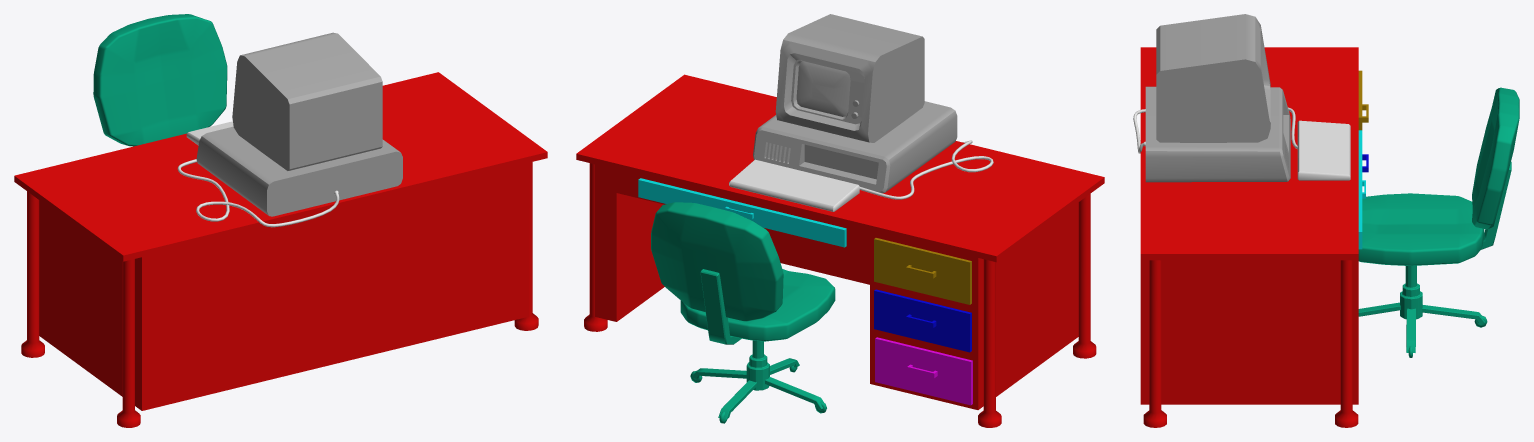
File: FULL_ComputerSetup.fbx
3 views of the same model, side by side, from view 1: azimuth 30°, elevation 25°; view 2: azimuth 150°, elevation 25°; view 3: azimuth 270°, elevation 25° (orthographic).
Parts seen in each view (by area): view 1: ComputerDesk, Computer, DeskChair, Keyboard; view 2: ComputerDesk, Computer, DeskChair, Keyboard, Desk_Drawer3, Desk_Drawer, Desk_Drawer2, Desk_Drawer4; view 3: ComputerDesk, Computer, DeskChair, Keyboard, Desk_Drawer4, Desk_Drawer.
Boxes of the visible parts, left/top/right/bottom form: ComputerDesk: left=14, top=72, right=547, bottom=427; Computer: left=196, top=32, right=402, bottom=216; DeskChair: left=93, top=14, right=227, bottom=146; Keyboard: left=177, top=121, right=339, bottom=227; ComputerDesk: left=576, top=74, right=1104, bottom=427; Computer: left=753, top=14, right=957, bottom=193; DeskChair: left=651, top=202, right=835, bottom=423; Keyboard: left=729, top=140, right=993, bottom=211; Desk_Drawer3: left=875, top=337, right=972, bottom=405; Desk_Drawer: left=874, top=238, right=971, bottom=304; Desk_Drawer2: left=874, top=289, right=971, bottom=352; Desk_Drawer4: left=638, top=178, right=846, bottom=247; ComputerDesk: left=1140, top=47, right=1358, bottom=427; Computer: left=1145, top=14, right=1290, bottom=182; DeskChair: left=1358, top=87, right=1519, bottom=357; Keyboard: left=1133, top=107, right=1350, bottom=180; Desk_Drawer4: left=1358, top=130, right=1365, bottom=249; Desk_Drawer: left=1358, top=70, right=1368, bottom=130.
Size of the model in its own units: 202 by 134 by 160.
